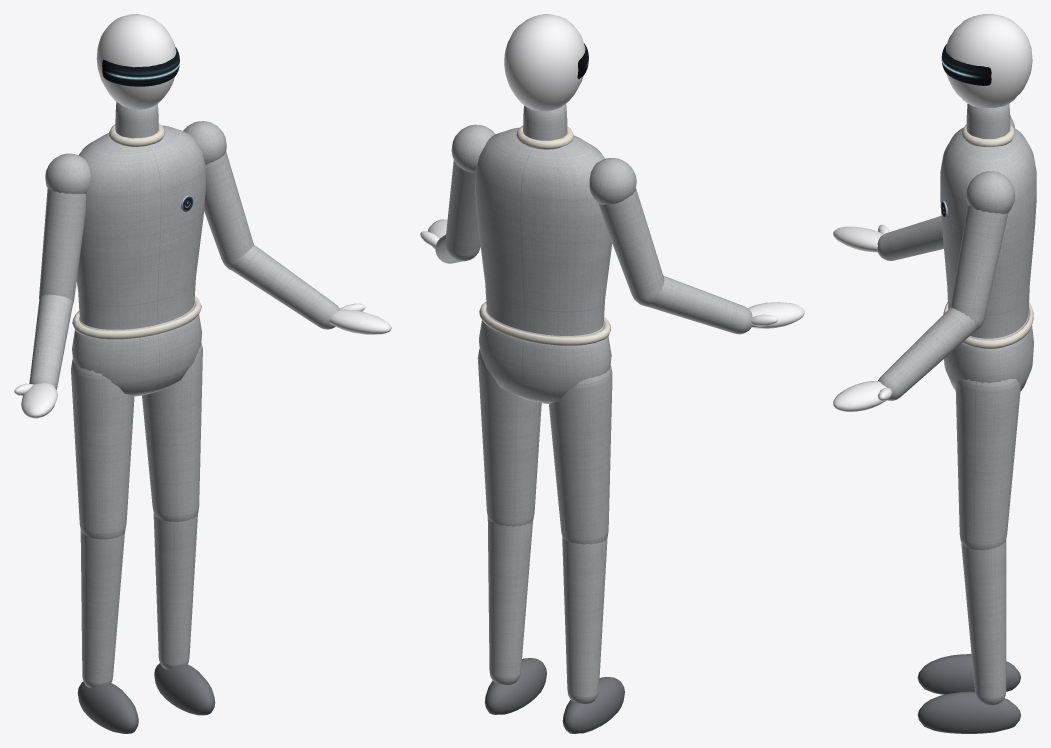
The model's file is host.lod1.glb.
3 views of the same model, side by side, from view 1: azimuth 30°, elevation 25°; view 2: azimuth 150°, elevation 25°; view 3: azimuth 270°, elevation 25° (orthographic).
Parts seen in each view (by area): view 1: Avatar · Host; view 2: Avatar · Host; view 3: Avatar · Host.
Part boxes in pixels (left/top/right/bottom): Avatar · Host: left=14, top=14, right=391, bottom=733; Avatar · Host: left=420, top=14, right=804, bottom=733; Avatar · Host: left=833, top=14, right=1036, bottom=733.
Bounding box in the file's own units: 0.9982 × 1.8 × 0.4802.
6 materials, 3 textured.
